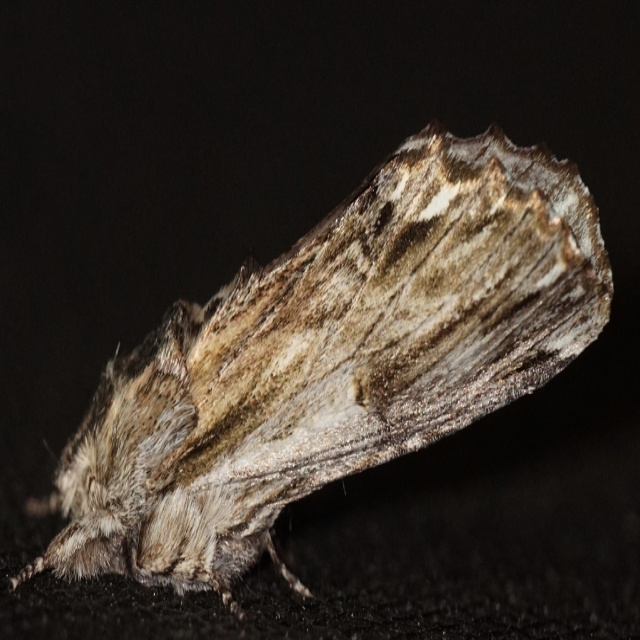Moths and butterflies: (4, 120, 617, 631)
